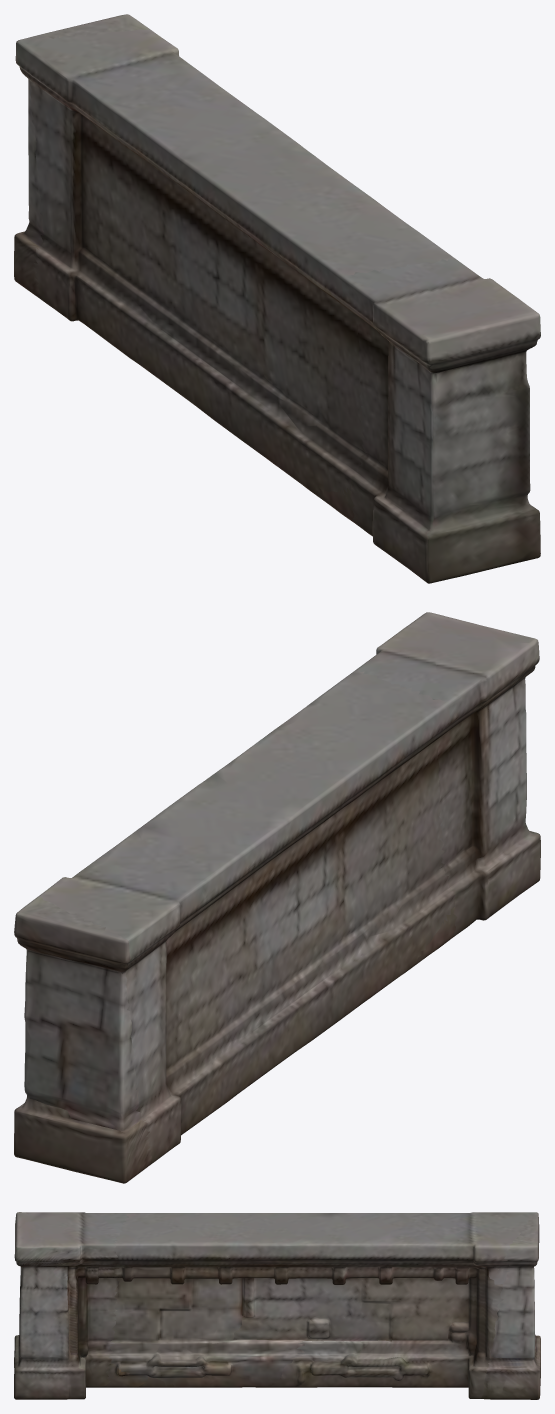
Rendered from import-1780595838652-wall1.web.webp.glb.
3 views of the same model, one above another, from view 1: azimuth 30°, elevation 25°; view 2: azimuth 150°, elevation 25°; view 3: azimuth 270°, elevation 25° (orthographic). The views are drawn at different scales.
Bounding box in the file's own units: 0.0606 × 0.1214 × 0.3757.
Materials: 1 (1 with a texture image).
